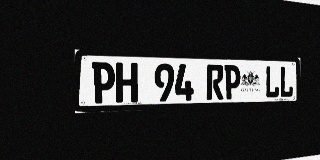4: (175, 64, 194, 101)
9: (154, 63, 174, 102)
H: (116, 62, 138, 103)
L: (265, 66, 280, 98), (280, 66, 294, 98)
P: (92, 62, 115, 104), (224, 65, 240, 99)
R: (206, 64, 224, 100)
